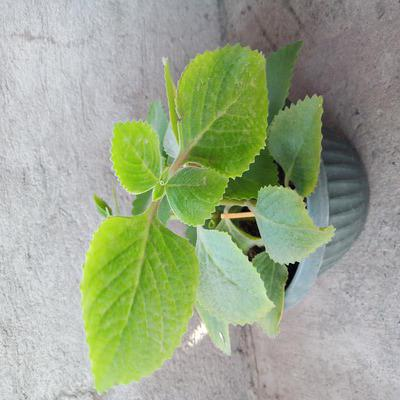Oregano: (75, 66, 325, 339)
